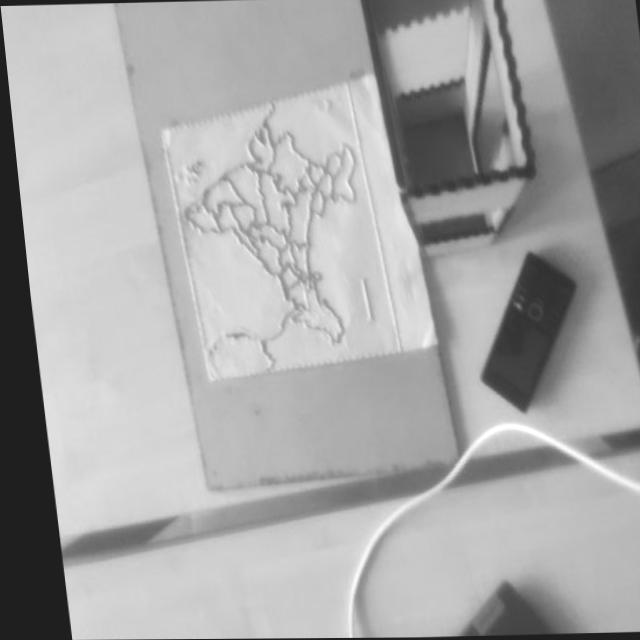map: (157, 82, 402, 391)
